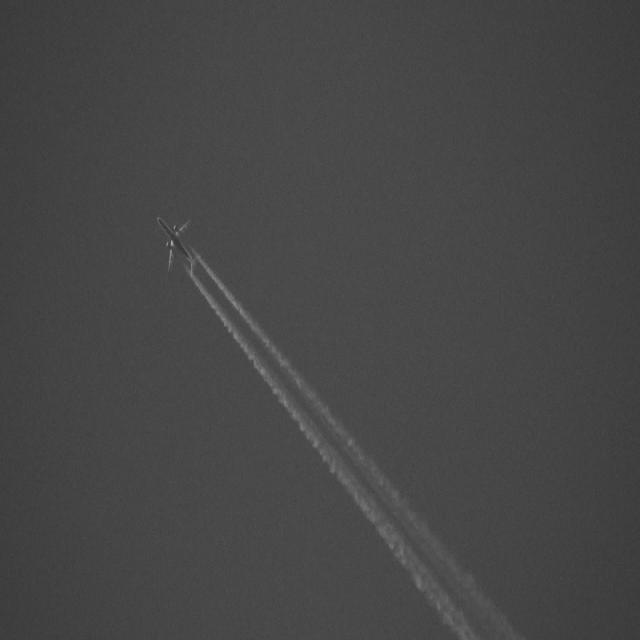aeroplane: (155, 208, 200, 282)
